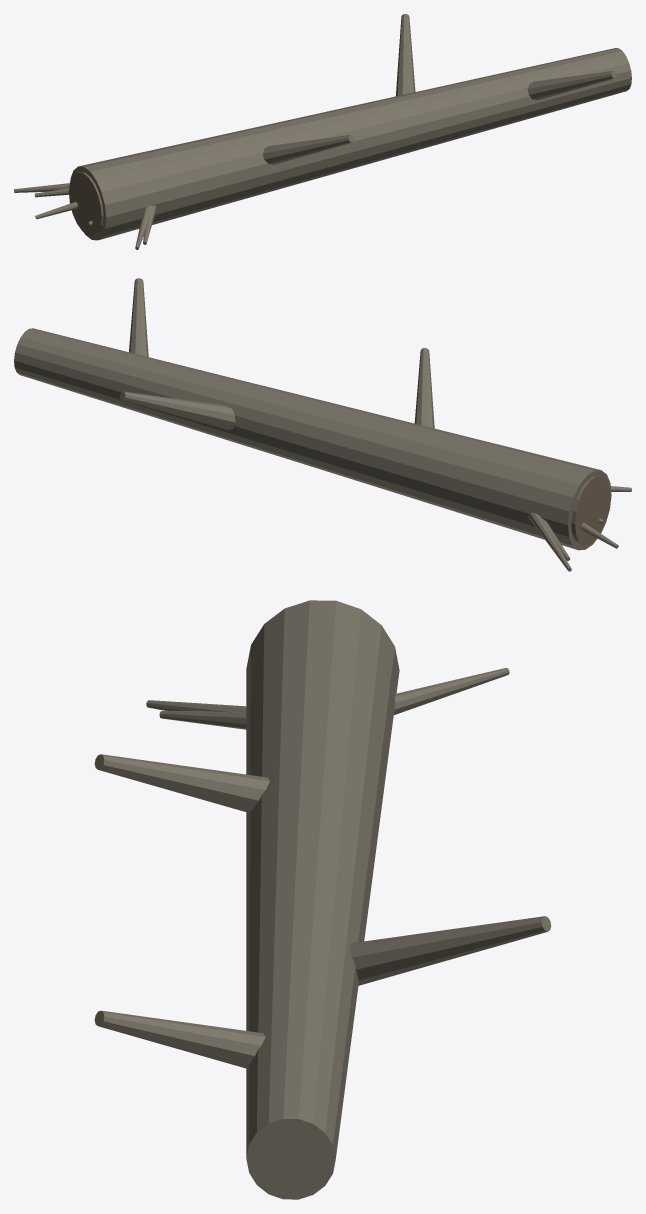
Rendered from fallen_oak.glb.
3 renders of one model, top to bottom at view 1: azimuth 30°, elevation 25°; view 2: azimuth 150°, elevation 25°; view 3: azimuth 270°, elevation 25°, orthographic. The views are drawn at different scales.
Visible parts, largest first — view 1: Body.083; view 2: Body.083; view 3: Body.083.
Part boxes in pixels (<box>): Body.083: <box>14,14,631,249</box>; Body.083: <box>14,278,631,571</box>; Body.083: <box>94,600,551,1199</box>.
Bounding box in the file's own units: 4.09 × 0.6381 × 1.43.
